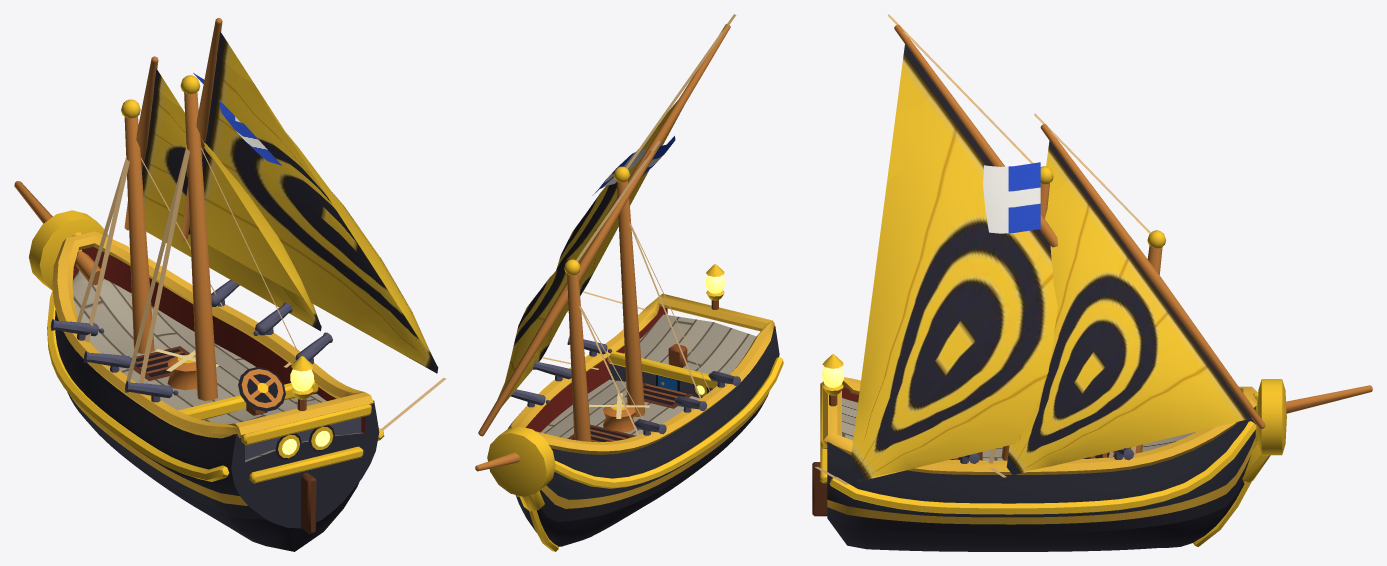
The model's file is enemy_skirmisher.glb.
3 renders of one model, left to right at view 1: azimuth 30°, elevation 25°; view 2: azimuth 150°, elevation 25°; view 3: azimuth 270°, elevation 25°, orthographic. The views are drawn at different scales.
Visible parts, largest first — view 1: Hull, Sail1_0, Rigging, Sail0_0, Guns0, Flag; view 2: Hull, Rigging, Sail0_0, Sail1_0, Guns0, Flag; view 3: Sail1_0, Hull, Sail0_0, Rigging, Flag.
Part boxes in pixels (x1,y1,x2,y2): Hull: (28,210,384,551); Sail1_0: (188,31,438,373); Rigging: (14,18,446,430); Sail0_0: (142,68,321,331); Guns0: (50,280,332,402); Flag: (193,73,281,165); Hull: (487,264,783,551); Rigging: (475,14,736,471); Sail0_0: (497,217,612,404); Sail1_0: (541,100,683,344); Guns0: (511,336,740,435); Flag: (592,136,675,195); Sail1_0: (849,44,1057,481); Hull: (812,354,1286,551); Sail0_0: (1006,140,1251,475); Rigging: (815,14,1372,484); Flag: (983,162,1040,233).
Size of the model in its own units: 0.9226 by 1.87 by 1.86.
8 materials, 4 textured.
